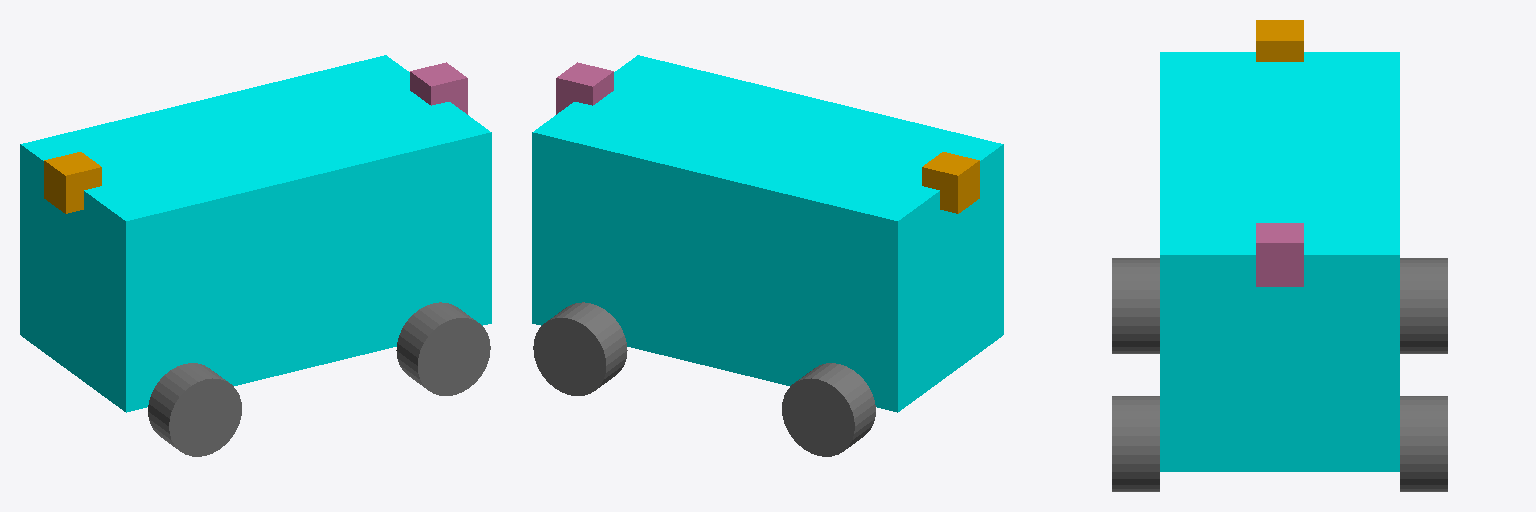
robot.urdf — tracked:
<?xml version="1.0" ?>
<!-- =================================================================================== -->
<!-- |    This document was autogenerated by xacro from lunabot.xacro                  | -->
<!-- |    EDITING THIS FILE BY HAND IS NOT RECOMMENDED                                 | -->
<!-- =================================================================================== -->
<robot name="tracked">
  <!-- Base Footprint -->
  <link name="base_footprint">
    <origin rpy="0 0 0" xyz="0 0 0"/>
  </link>
  <!-- Robot Base -->
  <link name="base_link">
    <visual>
      <origin rpy="0 0 0" xyz="0 0 0"/>
      <geometry>
        <box size="0.5 0.25 0.25"/>
      </geometry>
      <material name="Cyan">
        <color rgba="0 1.0 1.0 1.0"/>
      </material>
    </visual>
    <collision>
      <origin rpy="0 0 0" xyz="0 0 0"/>
      <geometry>
        <box size="0.5 0.25 0.25"/>
      </geometry>
    </collision>
    <inertial>
      <origin rpy="0 0 0" xyz="0 0 0"/>
      <mass value="5"/>
      <inertia ixx="0.052083333333333336" ixy="0.0" ixz="0.0" iyy="0.13020833333333334" iyz="0.0" izz="0.13020833333333334"/>
    </inertial>
  </link>
  <joint name="base_j" type="fixed">
    <parent link="base_footprint"/>
    <child link="base_link"/>
    <origin rpy="0 0 0" xyz="0 0 0.18"/>
  </joint>
  <link name="wheel_f_r_link">
    <visual>
      <origin rpy="1.5707963267948966 0 0" xyz="0 0 0"/>
      <geometry>
        <cylinder length="0.05" radius="0.05"/>
      </geometry>
      <material name="Gray">
        <color rgba="0.5 0.5 0.5 1.0"/>
      </material>
    </visual>
    <collision>
      <origin rpy="1.5707963267948966 0 0" xyz="0 0 0"/>
      <geometry>
        <cylinder length="0.05" radius="0.05"/>
      </geometry>
    </collision>
    <inertial>
      <origin rpy="1.5707963267948966 0 0" xyz="0 0 0"/>
      <mass value="1"/>
      <inertia ixx="0.0008333333333333335" ixy="0" ixz="0" iyy="0.0008333333333333335" iyz="0" izz="0.0012500000000000002"/>
    </inertial>
  </link>
  <joint name="wheel_f_r_j" type="continuous">
    <parent link="base_link"/>
    <child link="wheel_f_r_link"/>
    <origin rpy="0 0 0" xyz="0.17 -0.15 -0.13"/>
    <axis xyz="0 1 0"/>
  </joint>
  <link name="wheel_f_l_link">
    <visual>
      <origin rpy="1.5707963267948966 0 0" xyz="0 0 0"/>
      <geometry>
        <cylinder length="0.05" radius="0.05"/>
      </geometry>
      <material name="Gray">
        <color rgba="0.5 0.5 0.5 1.0"/>
      </material>
    </visual>
    <collision>
      <origin rpy="1.5707963267948966 0 0" xyz="0 0 0"/>
      <geometry>
        <cylinder length="0.05" radius="0.05"/>
      </geometry>
    </collision>
    <inertial>
      <origin rpy="1.5707963267948966 0 0" xyz="0 0 0"/>
      <mass value="1"/>
      <inertia ixx="0.0008333333333333335" ixy="0" ixz="0" iyy="0.0008333333333333335" iyz="0" izz="0.0012500000000000002"/>
    </inertial>
  </link>
  <joint name="wheel_f_l_j" type="continuous">
    <parent link="base_link"/>
    <child link="wheel_f_l_link"/>
    <origin rpy="0 0 0" xyz="0.17 0.15 -0.13"/>
    <axis xyz="0 1 0"/>
  </joint>
  <link name="wheel_b_r_link">
    <visual>
      <origin rpy="1.5707963267948966 0 0" xyz="0 0 0"/>
      <geometry>
        <cylinder length="0.05" radius="0.05"/>
      </geometry>
      <material name="Gray">
        <color rgba="0.5 0.5 0.5 1.0"/>
      </material>
    </visual>
    <collision>
      <origin rpy="1.5707963267948966 0 0" xyz="0 0 0"/>
      <geometry>
        <cylinder length="0.05" radius="0.05"/>
      </geometry>
    </collision>
    <inertial>
      <origin rpy="1.5707963267948966 0 0" xyz="0 0 0"/>
      <mass value="1"/>
      <inertia ixx="0.0008333333333333335" ixy="0" ixz="0" iyy="0.0008333333333333335" iyz="0" izz="0.0012500000000000002"/>
    </inertial>
  </link>
  <joint name="wheel_b_r_j" type="continuous">
    <parent link="base_link"/>
    <child link="wheel_b_r_link"/>
    <origin rpy="0 0 0" xyz="-0.17 -0.15 -0.13"/>
    <axis xyz="0 1 0"/>
  </joint>
  <link name="wheel_b_l_link">
    <visual>
      <origin rpy="1.5707963267948966 0 0" xyz="0 0 0"/>
      <geometry>
        <cylinder length="0.05" radius="0.05"/>
      </geometry>
      <material name="Gray">
        <color rgba="0.5 0.5 0.5 1.0"/>
      </material>
    </visual>
    <collision>
      <origin rpy="1.5707963267948966 0 0" xyz="0 0 0"/>
      <geometry>
        <cylinder length="0.05" radius="0.05"/>
      </geometry>
    </collision>
    <inertial>
      <origin rpy="1.5707963267948966 0 0" xyz="0 0 0"/>
      <mass value="1"/>
      <inertia ixx="0.0008333333333333335" ixy="0" ixz="0" iyy="0.0008333333333333335" iyz="0" izz="0.0012500000000000002"/>
    </inertial>
  </link>
  <joint name="wheel_b_l_j" type="continuous">
    <parent link="base_link"/>
    <child link="wheel_b_l_link"/>
    <origin rpy="0 0 0" xyz="-0.17 0.15 -0.13"/>
    <axis xyz="0 1 0"/>
  </joint>
  <link name="depth_camera_link">
    <origin rpy="0 0 0" xyz="0 0 0"/>
    <visual>
      <geometry>
        <box size="0.05 0.05 0.05"/>
      </geometry>
      <collision>
        <box size="0.05 0.05 0.05"/>
      </collision>
      <inertial>
        <origin rpy="0 0 0" xyz="0 0 0"/>
        <mass value="0.1"/>
        <inertia ixx="4.166666666666667e-05" ixy="0.0" ixz="0.0" iyy="4.166666666666667e-05" iyz="0.0" izz="4.166666666666667e-05"/>
      </inertial>
    </visual>
  </link>
  <joint name="depth_camera_j" type="fixed">
    <parent link="base_link"/>
    <child link="depth_camera_link"/>
    <origin rpy="0 0 0" xyz="0.25 0 0.125"/>
  </joint>
  <link name="depth_camera_optical_link"/>
  <joint name="depth_camera_optical_j" type="fixed">
    <parent link="depth_camera_link"/>
    <child link="depth_camera_optical_link"/>
    <origin rpy="-1.5707963267948966 0 -1.5707963267948966" xyz="0 0 0"/>
  </joint>
  <link name="camera_link">
    <origin rpy="0 0 0" xyz="0 0 0"/>
    <visual>
      <geometry>
        <box size="0.05 0.05 0.05"/>
      </geometry>
      <collision>
        <box size="0.05 0.05 0.05"/>
      </collision>
    </visual>
  </link>
  <joint name="camera_j" type="fixed">
    <parent link="base_link"/>
    <child link="camera_link"/>
    <origin rpy="0 0 3.141592653589793" xyz="-0.25 0 0.125"/>
  </joint>
  <link name="camera_optical_link"/>
  <joint name="camera_optical_j" type="fixed">
    <parent link="camera_link"/>
    <child link="camera_optical_link"/>
    <origin rpy="-1.5707963267948966 0 -1.5707963267948966" xyz="0 0 0"/>
  </joint>
  <gazebo>
    <plugin filename="libgazebo_ros_diff_drive.so" name="diff_drive_f">
      <update_rate>30</update_rate>
      <left_joint>wheel_f_l_j</left_joint>
      <right_joint>wheel_f_r_j</right_joint>
      <wheel_separation>0.3</wheel_separation>
      <wheel_diameter>0.1</wheel_diameter>
      <max_wheel_torque>20</max_wheel_torque>
      <max_wheel_acceleration>1.0</max_wheel_acceleration>
      <command_topic>cmd_vel</command_topic>
      <publish_odom>false</publish_odom>
      <publish_odom_tf>false</publish_odom_tf>
      <publish_wheel_tf>true</publish_wheel_tf>
      <odometry_frame>odom</odometry_frame>
      <robot_base_frame>base_link</robot_base_frame>
    </plugin>
    <!-- <plugin name='diff_drive_m' filename='libgazebo_ros_diff_drive.so'>
            <update_rate>30</update_rate>
            <left_joint>wheel_m_l_j</left_joint>
            <right_joint>wheel_m_r_j</right_joint>
            <wheel_separation>0.3</wheel_separation>
            <wheel_diameter>0.1</wheel_diameter>
            <max_wheel_torque>20</max_wheel_torque>
            <max_wheel_acceleration>1.0</max_wheel_acceleration>
            <command_topic>cmd_vel</command_topic>
            <publish_odom>false</publish_odom>
            <publish_odom_tf>false</publish_odom_tf>
            <publish_wheel_tf>true</publish_wheel_tf>

            <odometry_frame>odom</odometry_frame>
            <robot_base_frame>base_link</robot_base_frame>
        </plugin> -->
    <plugin filename="libgazebo_ros_diff_drive.so" name="diff_drive_b">
      <update_rate>30</update_rate>
      <left_joint>wheel_b_l_j</left_joint>
      <right_joint>wheel_b_r_j</right_joint>
      <wheel_separation>0.3</wheel_separation>
      <wheel_diameter>0.1</wheel_diameter>
      <max_wheel_torque>20</max_wheel_torque>
      <max_wheel_acceleration>1.0</max_wheel_acceleration>
      <command_topic>cmd_vel</command_topic>
      <publish_odom>false</publish_odom>
      <publish_odom_tf>false</publish_odom_tf>
      <publish_wheel_tf>true</publish_wheel_tf>
      <odometry_frame>odom</odometry_frame>
      <robot_base_frame>base_link</robot_base_frame>
    </plugin>
  </gazebo>
  <gazebo reference="depth_camera_link">
    <material>Gazebo/Red</material>
    <sensor name="depth_camera" type="depth">
      <always_on>1</always_on>
      <update_rate>10</update_rate>
      <visualize>true</visualize>
      <camera>
        <horizontal_fov>1.51844</horizontal_fov>
        <image>
          <width>320</width>
          <height>320</height>
          <format>R8G8B8</format>
        </image>
        <clip>
          <near>0.05</near>
          <far>10.0</far>
        </clip>
      </camera>
      <plugin filename="libgazebo_ros_camera.so" name="depth_camera_controller">
        <frame_name>depth_camera_optical_link</frame_name>
      </plugin>
    </sensor>
  </gazebo>
  <gazebo reference="camera_link">
    <material>Gazebo/Red</material>
    <sensor name="camera" type="camera">
      <always_on>1</always_on>
      <update_rate>10</update_rate>
      <visualize>true</visualize>
      <camera>
        <horizontal_fov>1.089</horizontal_fov>
        <image>
          <width>320</width>
          <height>320</height>
          <format>R8G8B8</format>
        </image>
        <clip>
          <near>0.05</near>
          <far>10.0</far>
        </clip>
      </camera>
      <plugin filename="libgazebo_ros_camera.so" name="camera_controller">
        <frame_name>camera_optical_link</frame_name>
      </plugin>
    </sensor>
  </gazebo>
</robot>

--- Facts derived from the render (not from the file) ---
3 views of the same robot in one strip: view 1: azimuth 30°, elevation 25°; view 2: azimuth 150°, elevation 25°; view 3: azimuth 270°, elevation 25° (orthographic).
Robot: tracked — 10 links, 9 joints (4 continuous, 5 fixed); root link base_footprint; default pose: every joint at zero.
Visible links, largest first — view 1: base_link, wheel_b_r_link, wheel_f_r_link, camera_link, depth_camera_link; view 2: base_link, wheel_b_l_link, wheel_f_l_link, camera_link, depth_camera_link; view 3: base_link, wheel_f_r_link, wheel_f_l_link, wheel_b_r_link, wheel_b_l_link, depth_camera_link, camera_link.
Boxes of the visible links, x1=… form: base_link: x1=20, y1=55, x2=491, y2=412; wheel_b_r_link: x1=148, y1=363, x2=241, y2=456; wheel_f_r_link: x1=396, y1=302, x2=490, y2=395; camera_link: x1=44, y1=152, x2=101, y2=213; depth_camera_link: x1=410, y1=62, x2=467, y2=114; base_link: x1=532, y1=55, x2=1003, y2=412; wheel_b_l_link: x1=782, y1=363, x2=875, y2=456; wheel_f_l_link: x1=533, y1=302, x2=627, y2=395; camera_link: x1=922, y1=152, x2=979, y2=213; depth_camera_link: x1=556, y1=62, x2=613, y2=114; base_link: x1=1160, y1=52, x2=1399, y2=471; wheel_f_r_link: x1=1112, y1=396, x2=1159, y2=491; wheel_f_l_link: x1=1400, y1=396, x2=1447, y2=491; wheel_b_r_link: x1=1112, y1=258, x2=1159, y2=353; wheel_b_l_link: x1=1400, y1=258, x2=1447, y2=353; depth_camera_link: x1=1256, y1=223, x2=1303, y2=286; camera_link: x1=1256, y1=20, x2=1303, y2=61.
Bounding box of the posed robot: 0.55 × 0.35 × 0.33 m (x, y, z).
Geometry: primitives only (box / cylinder / sphere), no mesh files.